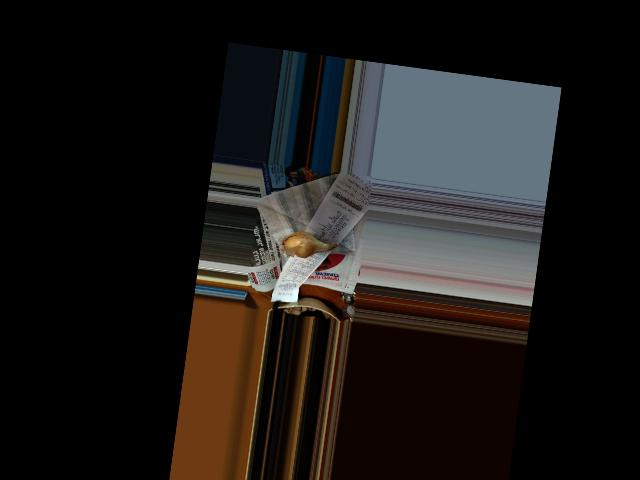onion: (282, 228, 328, 262)
